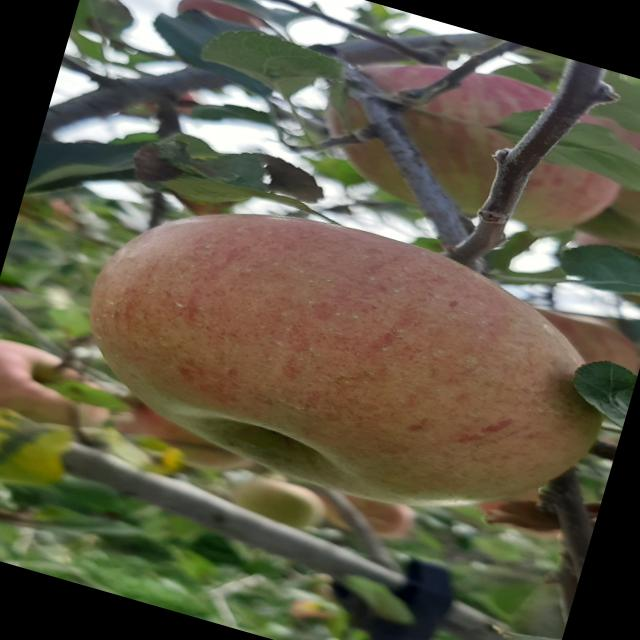fresh: (44, 153, 640, 561)
